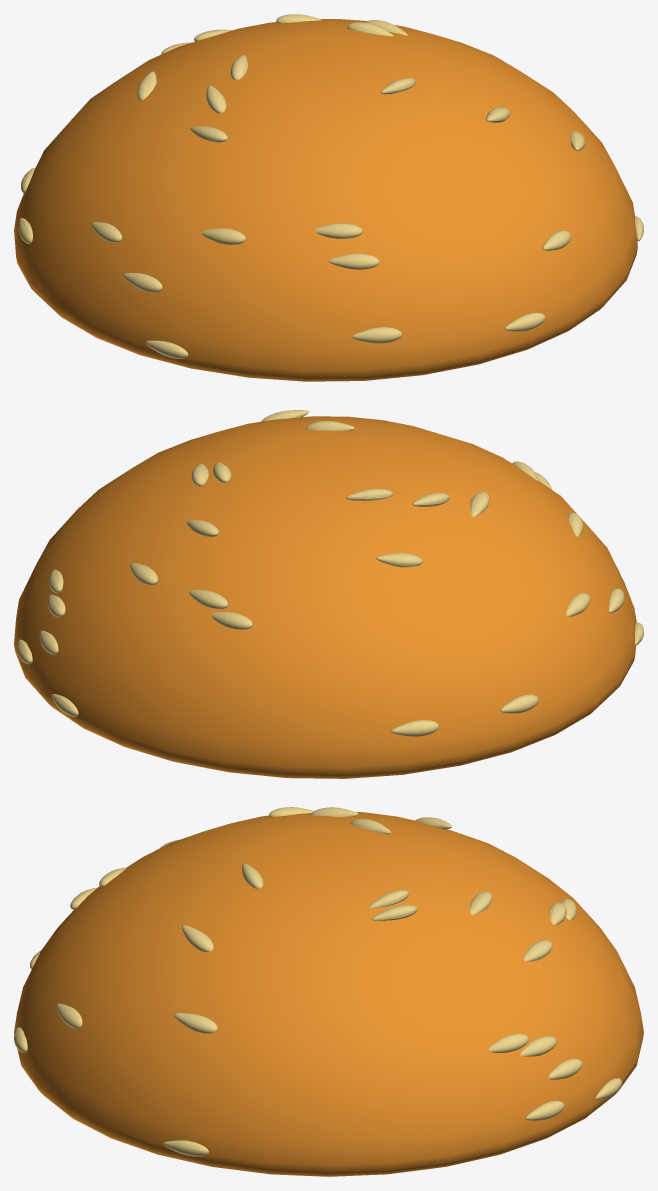
File: PANE_non_usare.fbx
3 views of the same model, one above another, from view 1: azimuth 30°, elevation 25°; view 2: azimuth 150°, elevation 25°; view 3: azimuth 270°, elevation 25° (orthographic).
Visible parts, largest first — view 1: Sphere.001, Sphere.001|Sphere.002|Dupli|18, Sphere.001|Sphere.002|Dupli|16, Sphere.001|Sphere.002|Dupli|17, Sphere.001|Sphere.002|Dupli|19, Sphere.001|Sphere.002|Dupli|21, Sphere.001|Sphere.002|Dupli|15; view 2: Sphere.001, Sphere.001|Sphere.002|Dupli|28, Sphere.001|Sphere.002|Dupli|29, Sphere.001|Sphere.002|Dupli|, Sphere.001|Sphere.002|Dupli|27; view 3: Sphere.001, Sphere.001|Sphere.002|Dupli|10, Sphere.001|Sphere.002|Dupli|8, Sphere.001|Sphere.002|Dupli|11.
Boxes of the visible parts, bbox=[...] form: Sphere.001: bbox=[14, 19, 637, 381]; Sphere.001|Sphere.002|Dupli|18: bbox=[329, 253, 379, 269]; Sphere.001|Sphere.002|Dupli|16: bbox=[352, 327, 401, 343]; Sphere.001|Sphere.002|Dupli|17: bbox=[315, 223, 362, 238]; Sphere.001|Sphere.002|Dupli|19: bbox=[202, 228, 245, 244]; Sphere.001|Sphere.002|Dupli|21: bbox=[123, 273, 162, 292]; Sphere.001|Sphere.002|Dupli|15: bbox=[505, 312, 545, 331]; Sphere.001: bbox=[14, 416, 636, 778]; Sphere.001|Sphere.002|Dupli|28: bbox=[391, 720, 439, 736]; Sphere.001|Sphere.002|Dupli|29: bbox=[211, 612, 252, 629]; Sphere.001|Sphere.002|Dupli|: bbox=[189, 590, 228, 609]; Sphere.001|Sphere.002|Dupli|27: bbox=[376, 553, 422, 567]; Sphere.001: bbox=[14, 812, 643, 1176]; Sphere.001|Sphere.002|Dupli|10: bbox=[173, 1013, 217, 1033]; Sphere.001|Sphere.002|Dupli|8: bbox=[488, 1033, 528, 1052]; Sphere.001|Sphere.002|Dupli|11: bbox=[163, 1140, 208, 1156].
Bounding box in the file's own units: 198 × 68.95 × 198.
